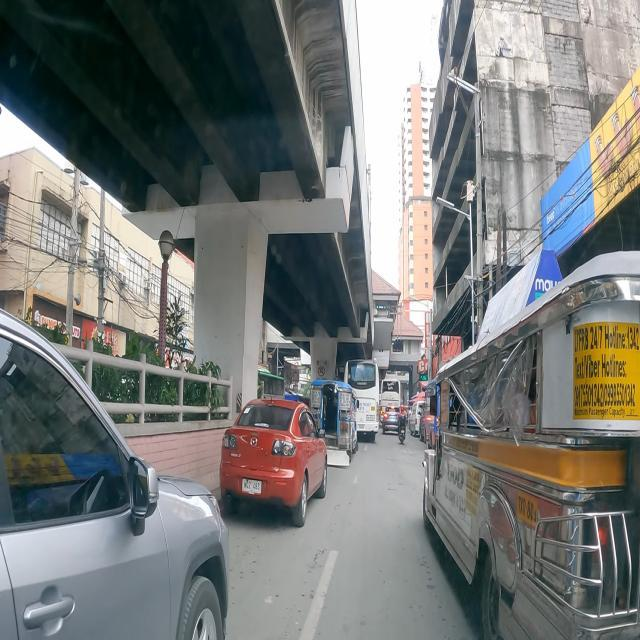bus: (344, 359, 379, 443), (255, 362, 286, 400), (380, 378, 401, 423)
car: (0, 308, 229, 640), (218, 397, 328, 529), (382, 406, 400, 434)
jeepney: (422, 248, 640, 640), (310, 379, 360, 466)
motorcycle: (398, 404, 406, 444)
